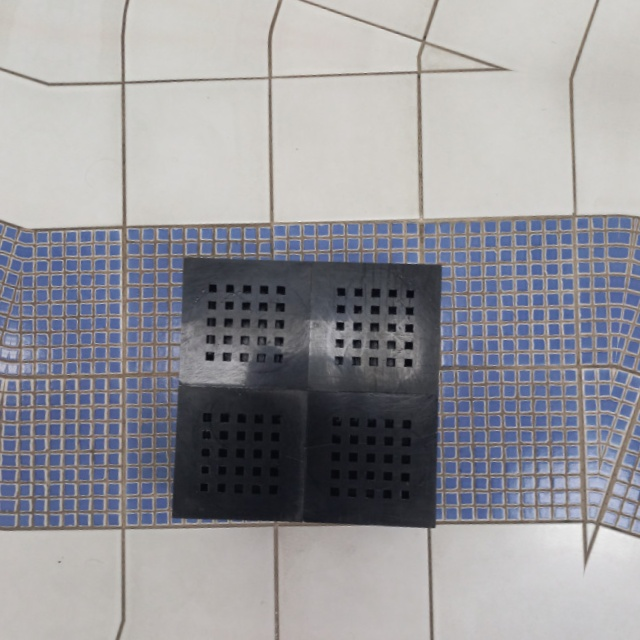pallet: (173, 254, 444, 533)
